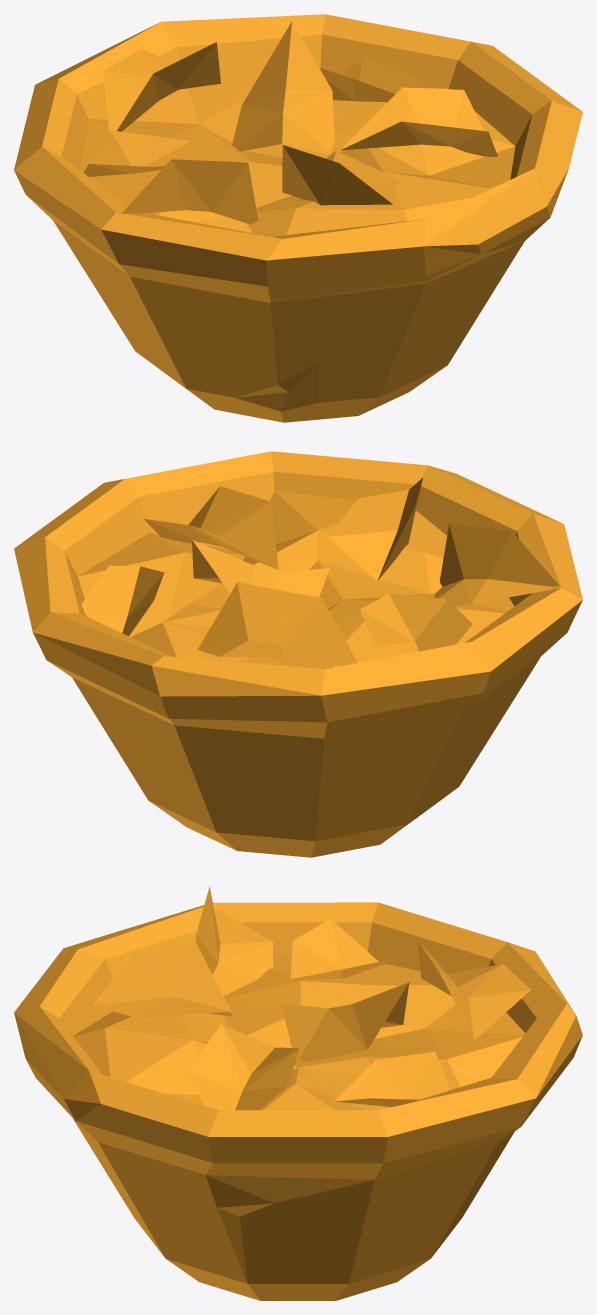
The model's file is SM_Bowl_Wooden_Herbs.fbx.
The picture shows the model from 3 angles, top to bottom: view 1: azimuth 30°, elevation 25°; view 2: azimuth 150°, elevation 25°; view 3: azimuth 270°, elevation 25°; orthographic projection.
Visible parts, largest first — view 1: bowl-wooden-herbs; view 2: bowl-wooden-herbs; view 3: bowl-wooden-herbs.
Part boxes in pixels (left/top/right/bottom): bowl-wooden-herbs: left=14, top=14, right=582, bottom=422; bowl-wooden-herbs: left=14, top=451, right=582, bottom=857; bowl-wooden-herbs: left=14, top=886, right=582, bottom=1300.
Bounding box in the file's own units: 0.2164 × 0.1274 × 0.2231.
